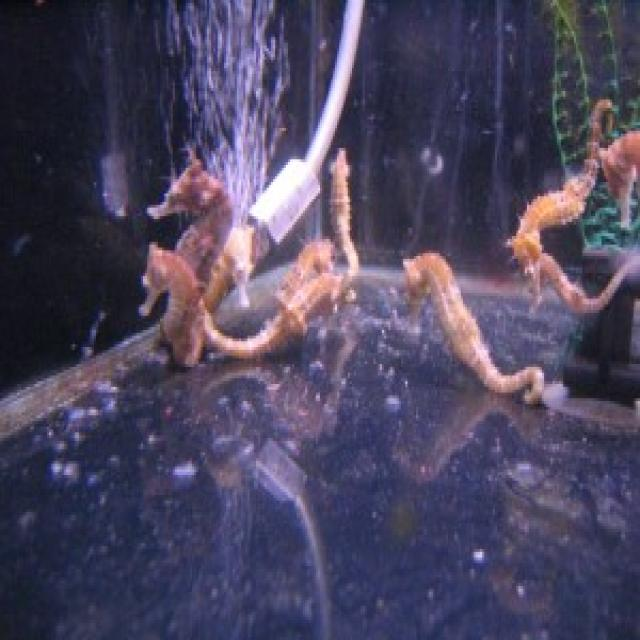Seahorse: (402, 251, 504, 428), (227, 284, 357, 396), (512, 145, 578, 312), (146, 156, 230, 244), (136, 247, 199, 351), (598, 124, 640, 231), (328, 146, 360, 259)
